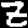z: (0, 0, 28, 28)
